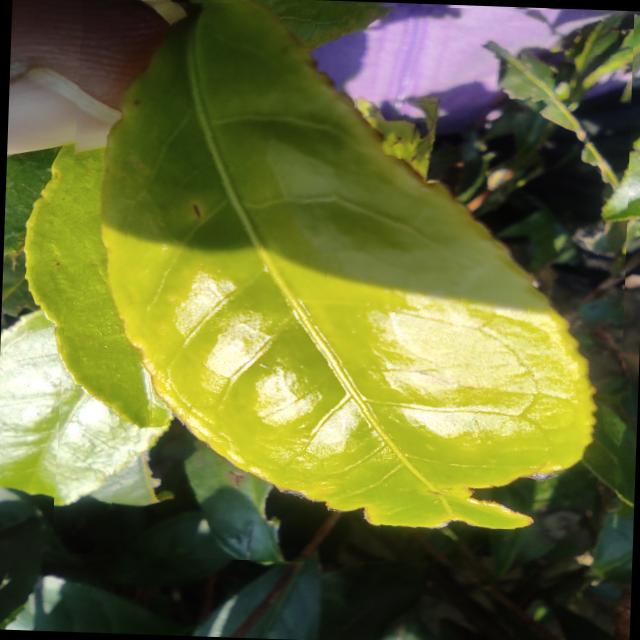Category C(4-7 days): (50, 0, 633, 572)
